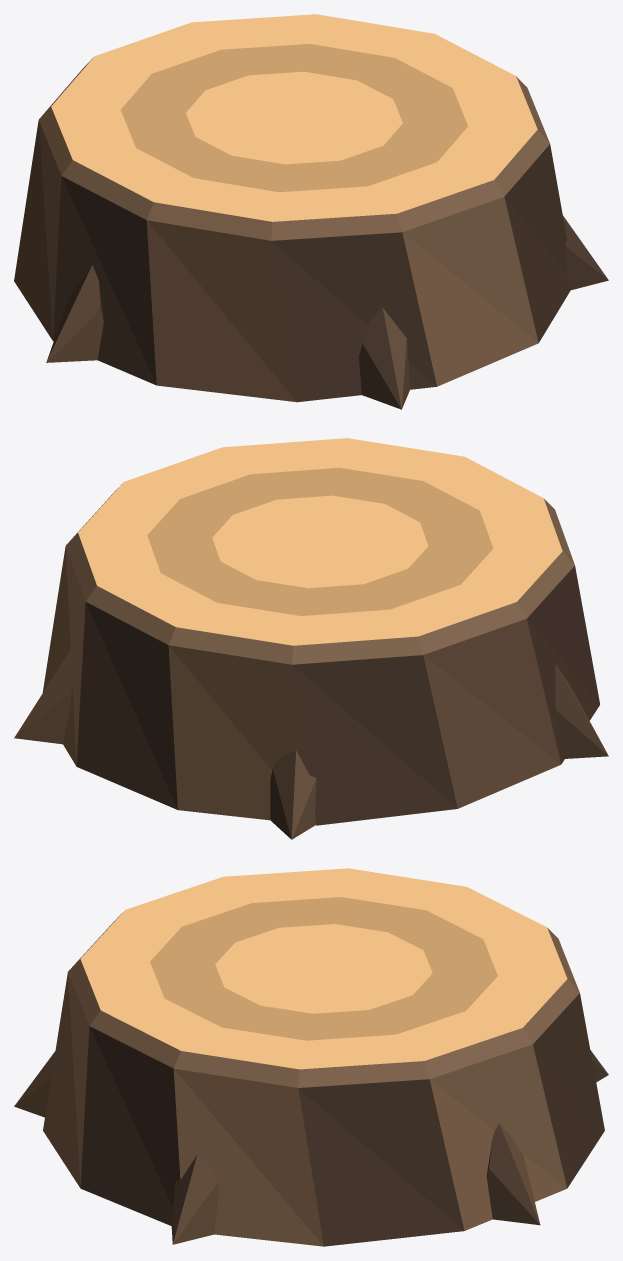
File: big-stump.glb
3 views of the same model, one above another, from view 1: azimuth 30°, elevation 25°; view 2: azimuth 150°, elevation 25°; view 3: azimuth 270°, elevation 25° (orthographic).
Parts seen in each view (by area): view 1: big-stump; view 2: big-stump; view 3: big-stump.
Part boxes in pixels (x1,y1,x2,y2): big-stump: (14, 14, 608, 409); big-stump: (14, 438, 608, 839); big-stump: (14, 868, 608, 1246).
Bounding box in the file's own units: 9.75 × 3 × 10.
